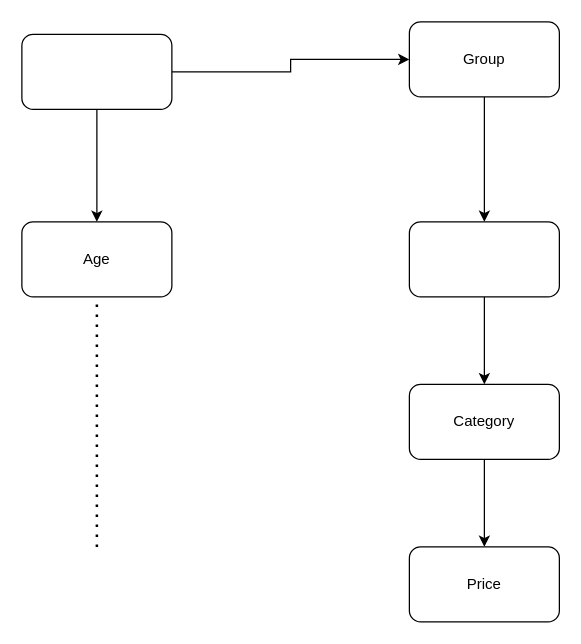
Some shapes in this 581 by 644 pixel diagram are drawn without their labels. Each missing label, with the box of its shape:
Game: (408, 221, 559, 297)
Girl: (21, 33, 172, 109)
